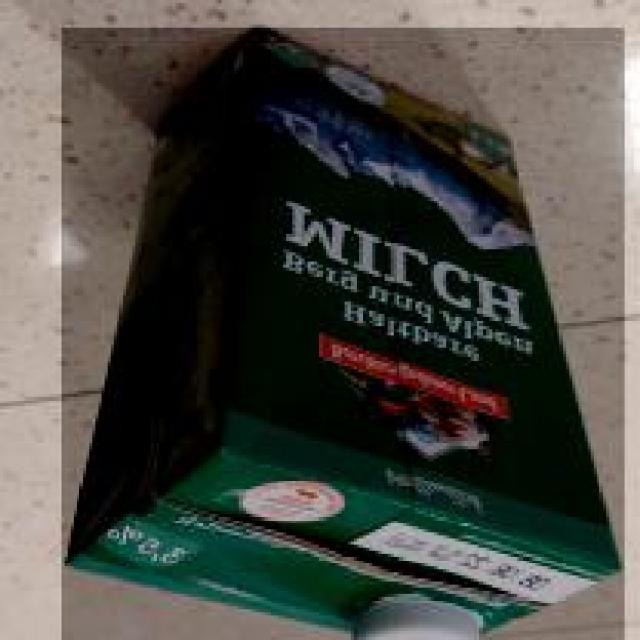milk: (62, 24, 628, 640)
